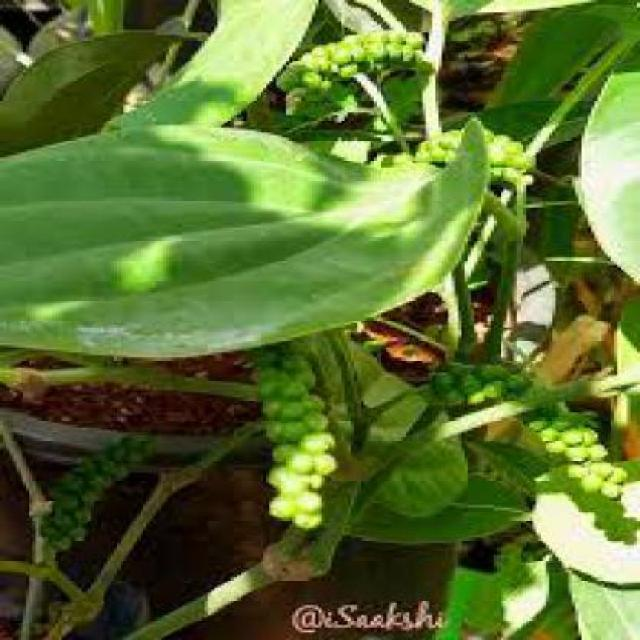UNRIPE: (435, 360, 623, 495), (248, 348, 329, 525), (32, 435, 131, 548), (271, 28, 420, 92), (413, 128, 533, 183)
